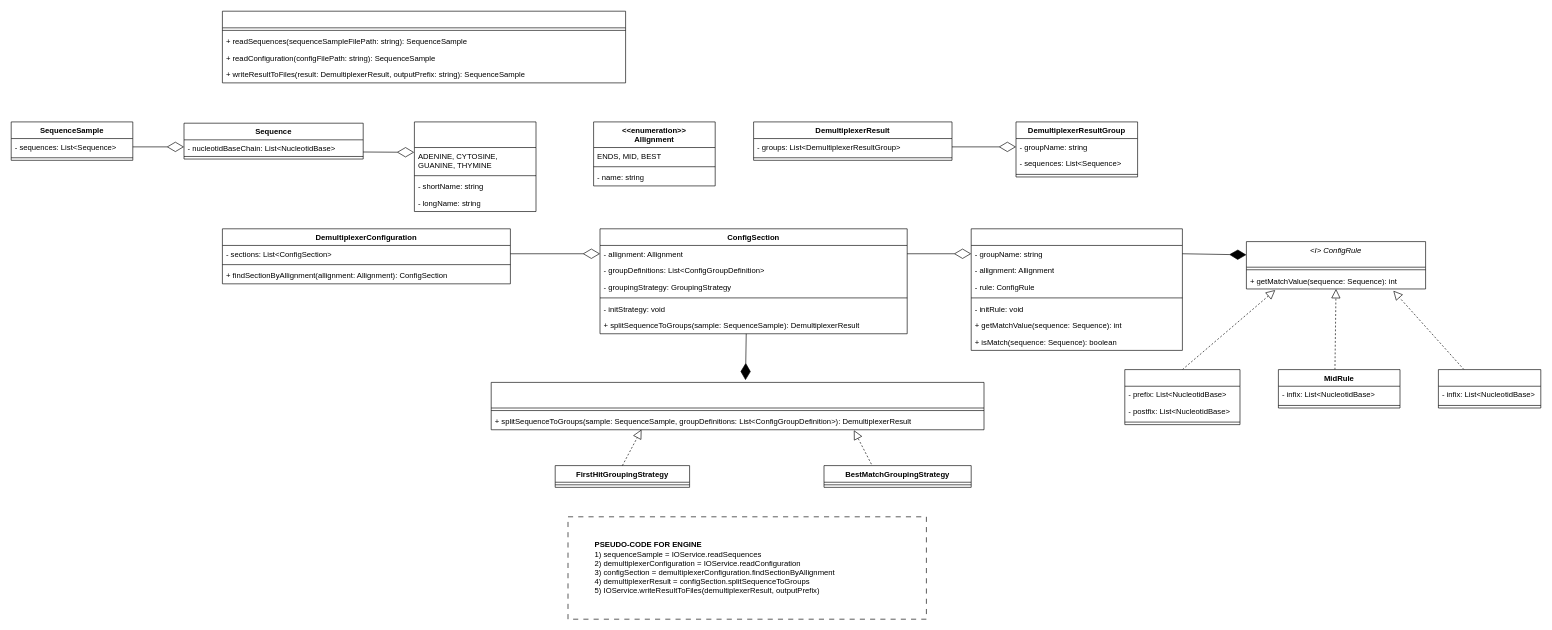
Some shapes in this 1552 by 630 pixel diagram are drawn without their labels. The shapes that lost their labels are listed below. From the top down, each one's box as (x1, y1, x2, y2) in pixels, then its label:
(222, 11, 626, 83): IOService
(414, 121, 536, 212): <<enumeration>> NucleotidBase
(971, 228, 1182, 350): ConfigGroupDefinition
(491, 382, 984, 430): <I> GroupingStrategy
(1124, 369, 1240, 425): EndsRule
(1438, 369, 1541, 408): BestRule
